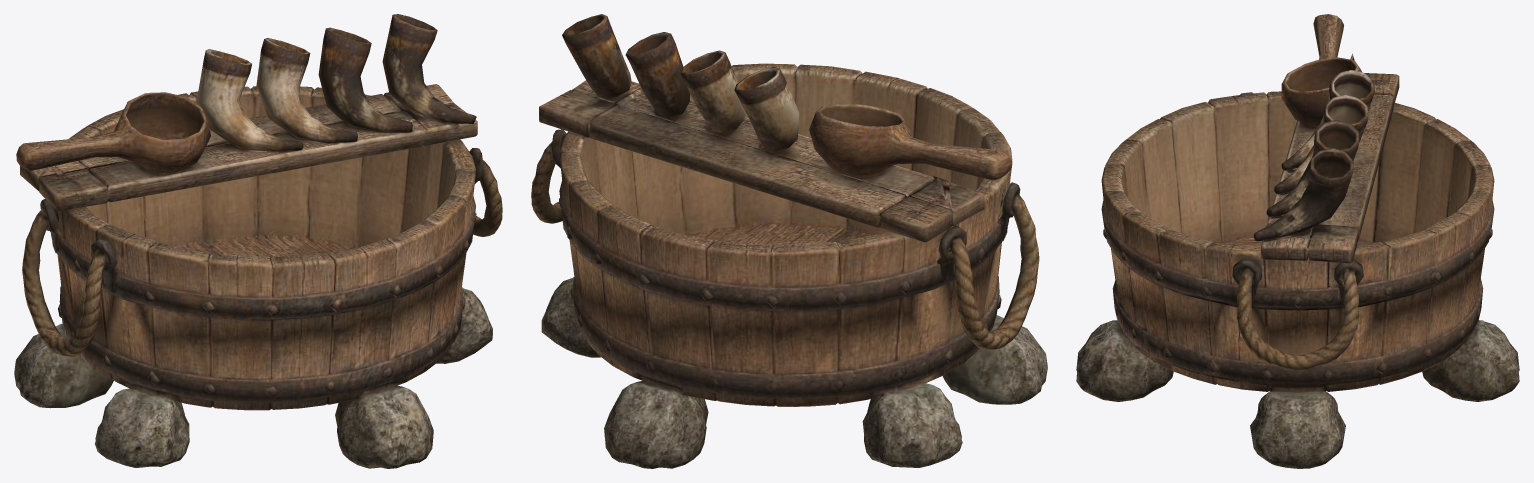
The model's file is th_ale_tub.glb.
3 views of the same model, side by side, from view 1: azimuth 30°, elevation 25°; view 2: azimuth 150°, elevation 25°; view 3: azimuth 270°, elevation 25° (orthographic). The views are drawn at different scales.
Parts seen in each view (by area): view 1: th_ale_tub; view 2: th_ale_tub; view 3: th_ale_tub.
Boxes of the visible parts, x1,y1,x2,y2 form: th_ale_tub: (14, 14, 502, 468); th_ale_tub: (531, 14, 1047, 468); th_ale_tub: (1076, 14, 1519, 468).
Size of the model in its own units: 1.1 by 0.75 by 1.02.
1 material, 1 textured.
